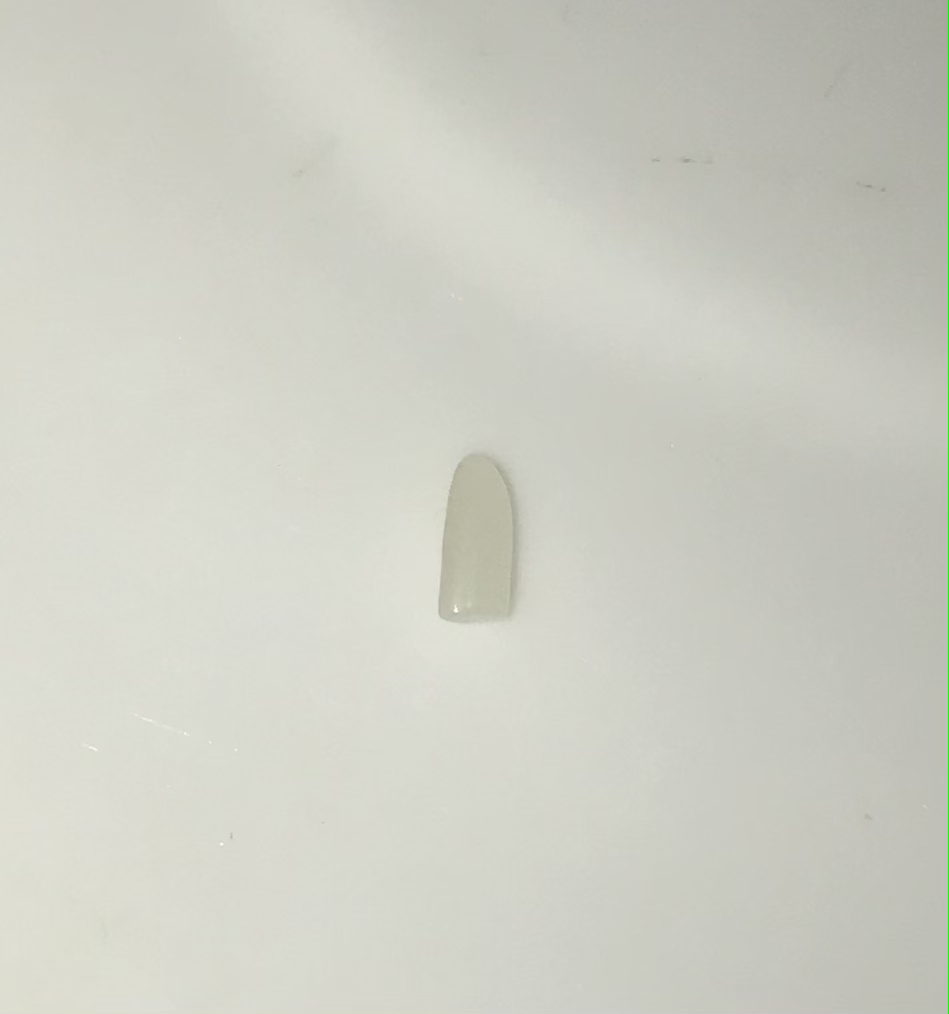Gao Ngoc Troi: (410, 446, 550, 644)
